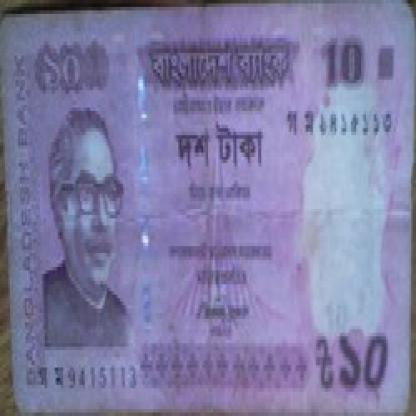Ten Taka: (335, 319, 391, 402), (316, 31, 369, 97), (30, 42, 91, 94)
